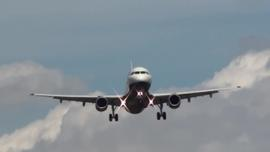aircraft: (30, 61, 242, 122)
